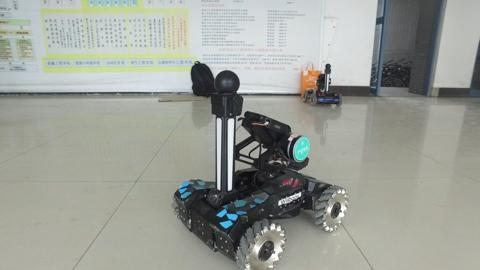bag: (187, 58, 218, 99), (298, 60, 324, 101)
chariot: (169, 68, 350, 270), (302, 61, 346, 108)
